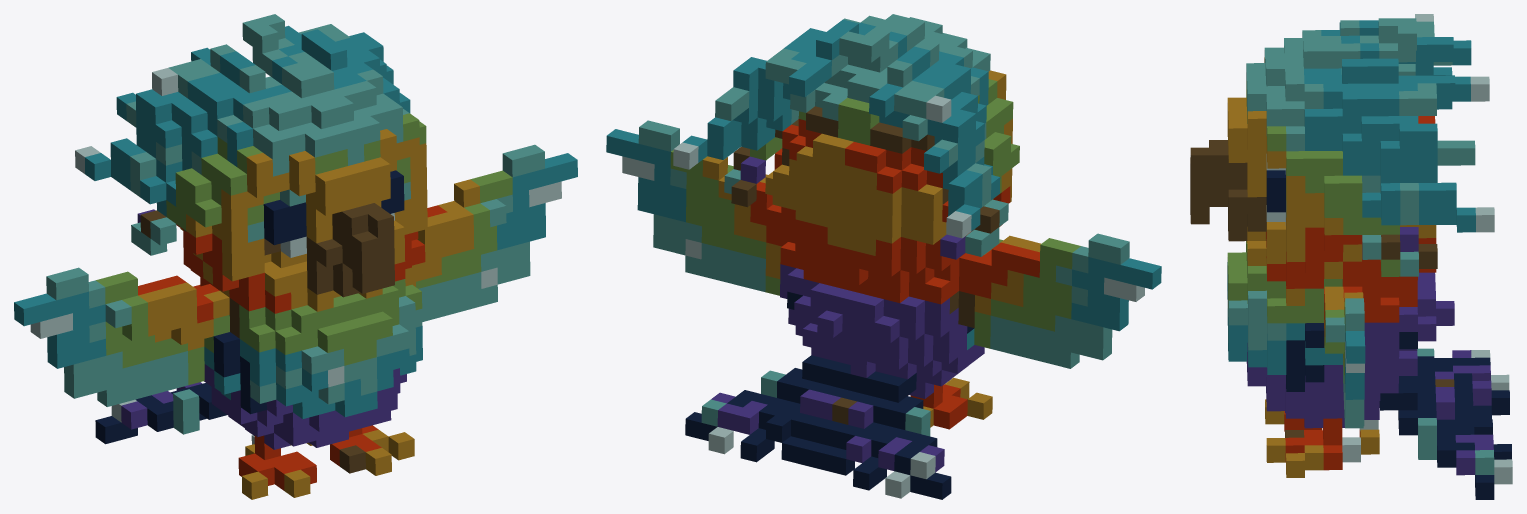
Rendered from parrot_ours2.glb.
3 renders of one model, left to right at view 1: azimuth 30°, elevation 25°; view 2: azimuth 150°, elevation 25°; view 3: azimuth 270°, elevation 25°, orthographic. The views are drawn at different scales.
Parts seen in each view (by area): view 1: parrot_30; view 2: parrot_30; view 3: parrot_30.
Part boxes in pixels (left/top/right/bottom): parrot_30: left=14, top=14, right=577, bottom=499; parrot_30: left=606, top=14, right=1161, bottom=499; parrot_30: left=1190, top=14, right=1512, bottom=499.
Bounding box in the file's own units: 34.02 × 25.04 × 17.11.
